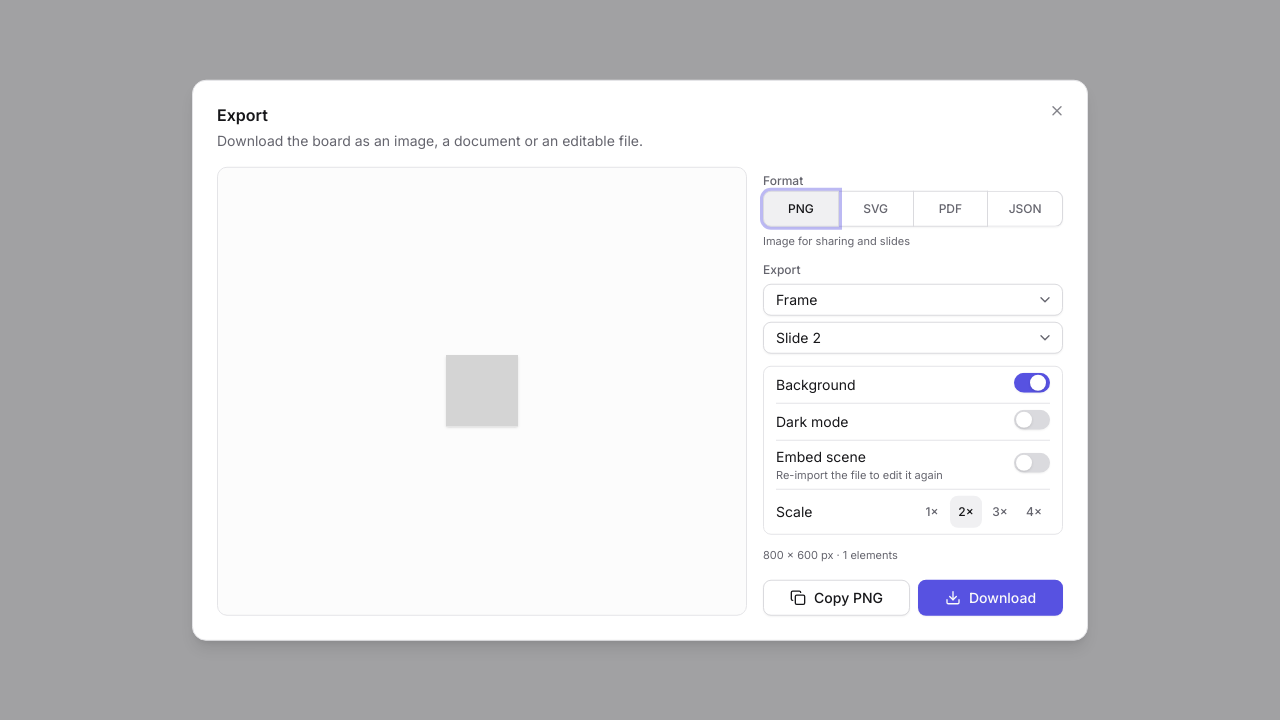
ExportDialog › downloads the chosen format and scope
This screenshot has width=1280, height=720.
Expected: the dialog with test id "export-dialog" is shown, [192, 80, 1088, 640]
Expected: the dropdown with test id "export-scope" shows "Frame", [763, 283, 1063, 315]
Click the radio button with test id "export-format-svg" at {"x": 876, "y": 209}, box [839, 191, 914, 227]
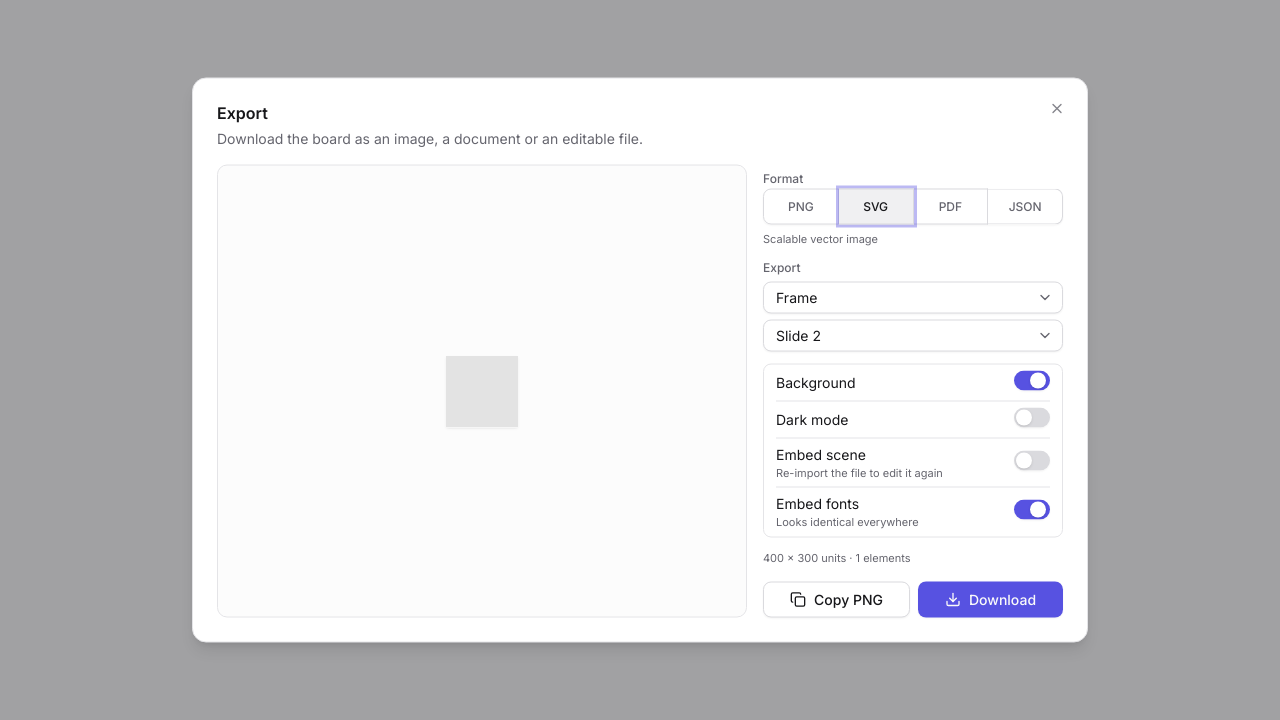
Click the switch with test id "export-background" at {"x": 1032, "y": 380}, box [1014, 370, 1050, 390]
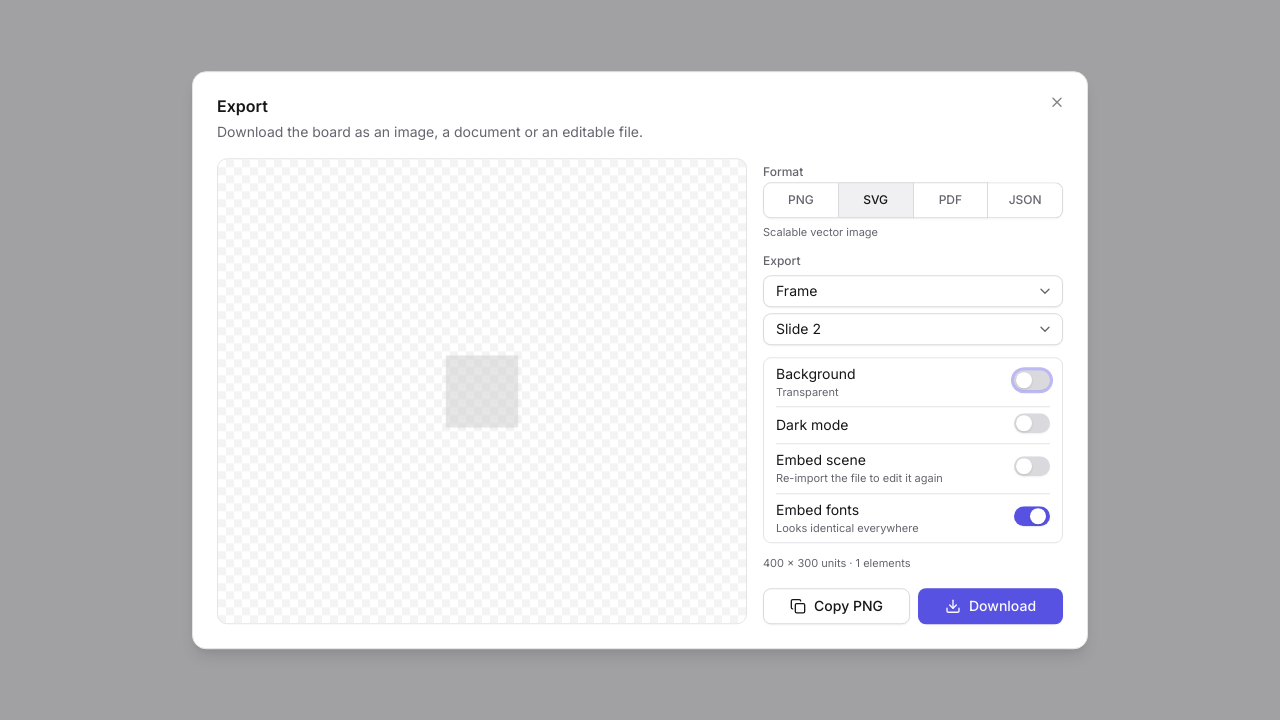
Click the button with test id "export-download" at {"x": 990, "y": 606}, box [918, 588, 1063, 624]
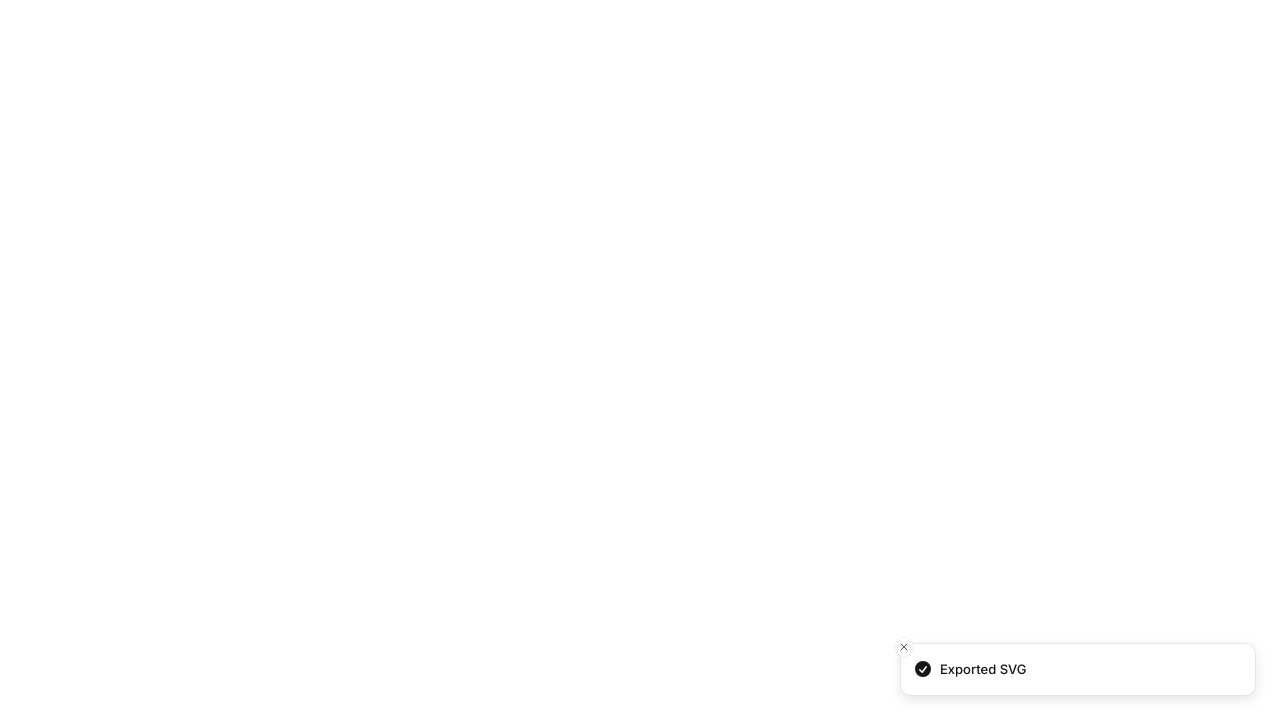
Now the dialog with test id "export-dialog" is gone
